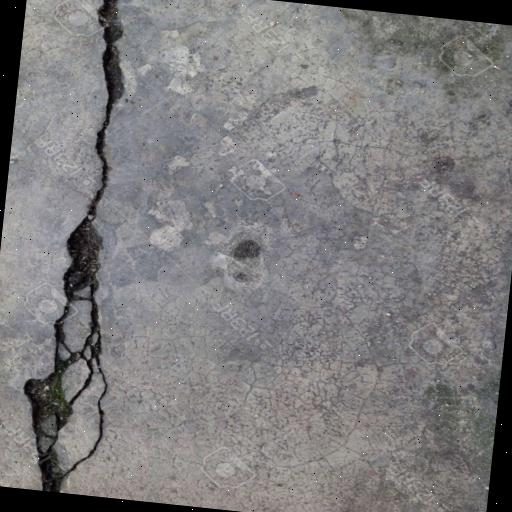spalling: (18, 0, 140, 486)
